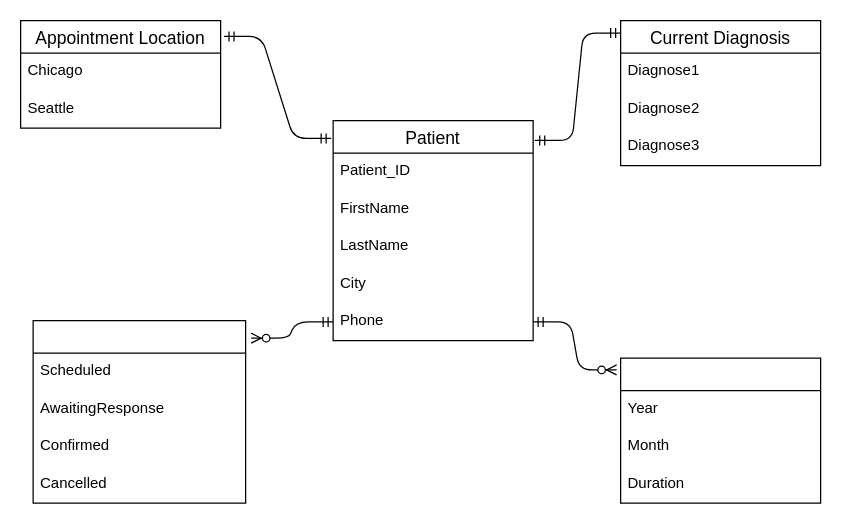
The diagram is 841 pixels wide and 524 high, and some of its shapes have lost their labels. Here are the shapes that lost their labels. From the top down, the box of each, then its label:
(32, 319, 246, 503): Appointment Status
(619, 357, 821, 503): History of Treatment
